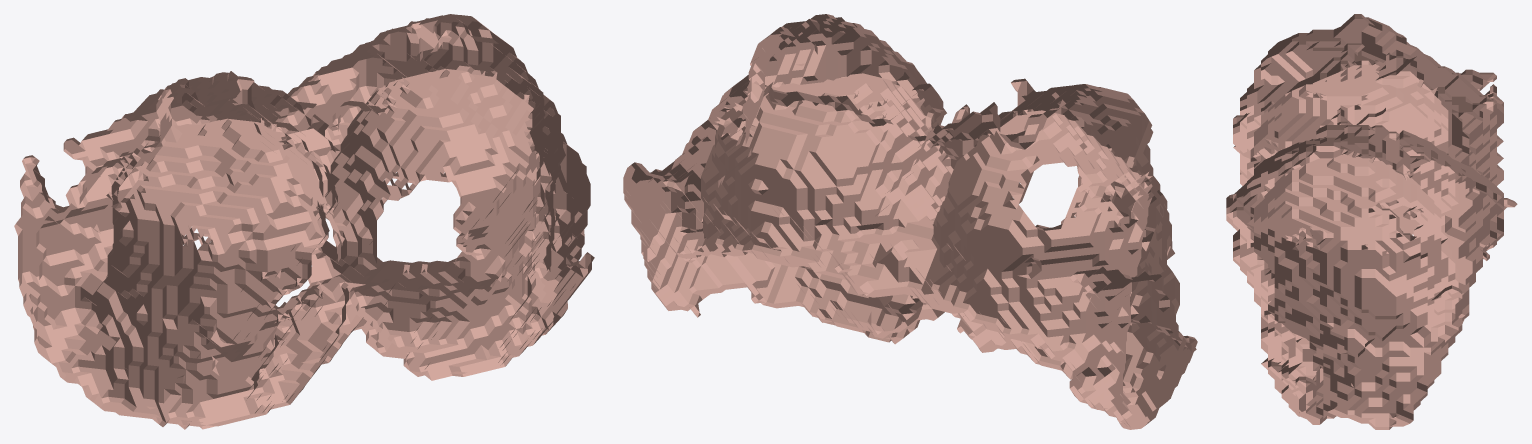
Rendered from region_0061_GL__glomerular_layer_of_olfactory_bulb_.glb.
3 renders of one model, left to right at view 1: azimuth 30°, elevation 25°; view 2: azimuth 150°, elevation 25°; view 3: azimuth 270°, elevation 25°, orthographic. The views are drawn at different scales.
Parts seen in each view (by area): view 1: world; view 2: world; view 3: world.
Boxes of the visible parts, <box> form: world: <box>14,14,594,429</box>; world: <box>623,14,1197,429</box>; world: <box>1226,14,1517,429</box>.
Bounding box in the file's own units: 0.608 × 0.36 × 0.336.
